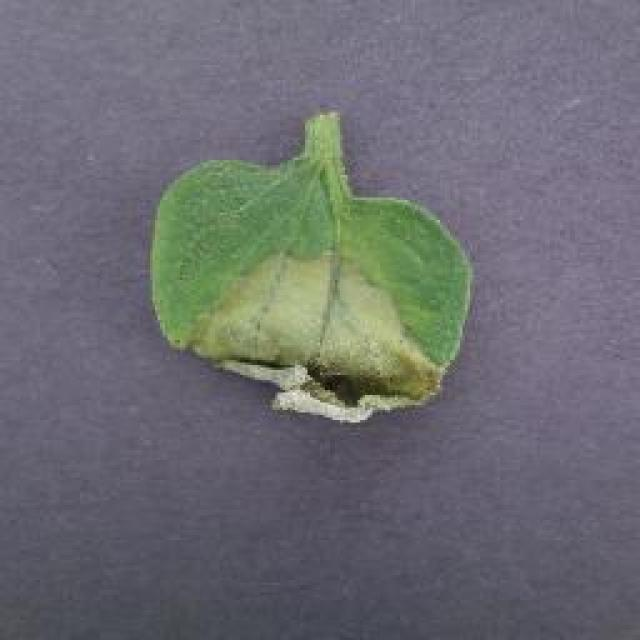Tomato late blight leaf: (152, 138, 470, 442)
